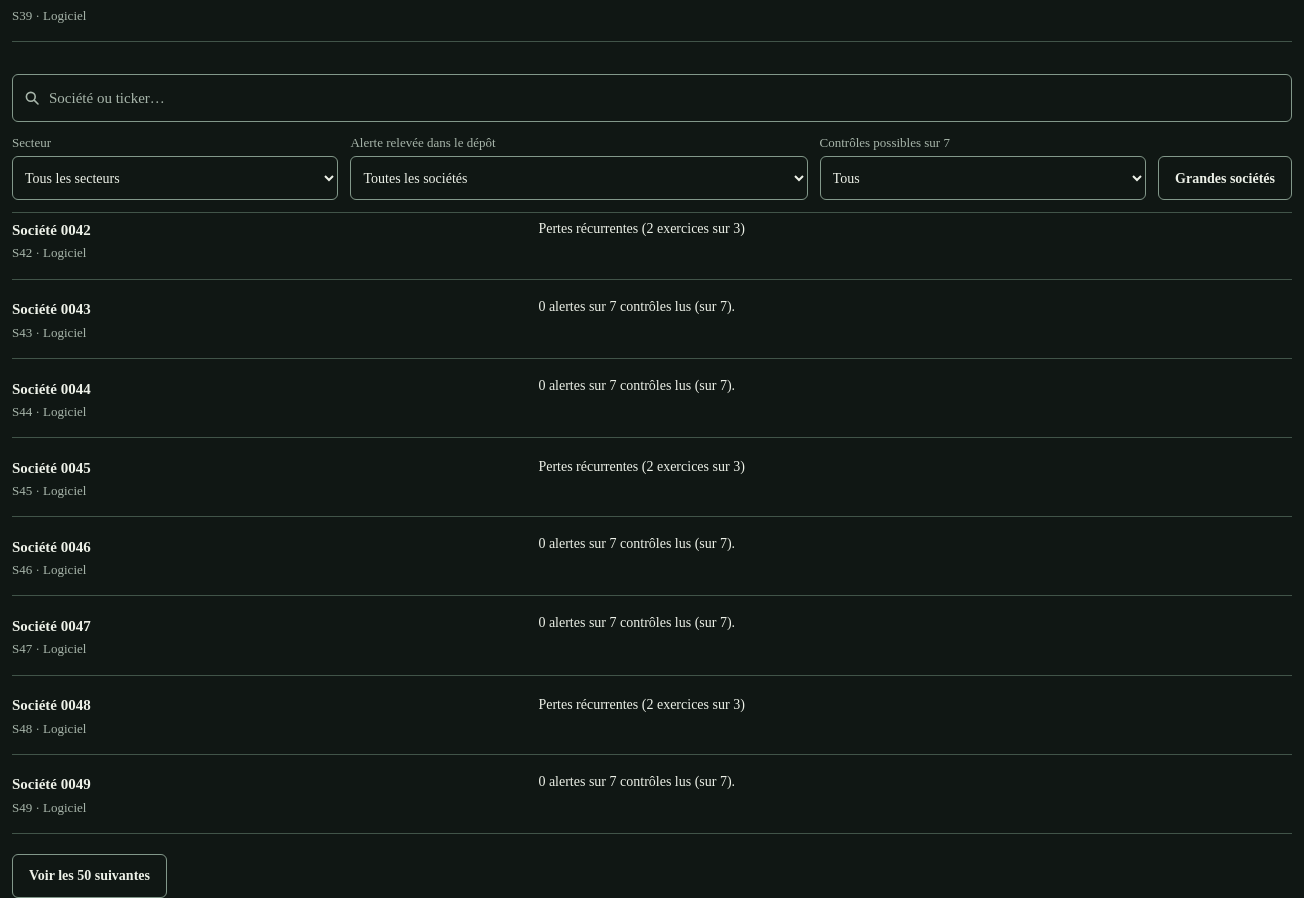
Test: InvestirListe, paging and focus › says « Voir les 20 suivantes » when fewer than 50 remain
(page scrolled)
Step 1. Click the button "Voir les 50 suivantes" → [90, 876], box [12,854,167,897]
(page scrolled)
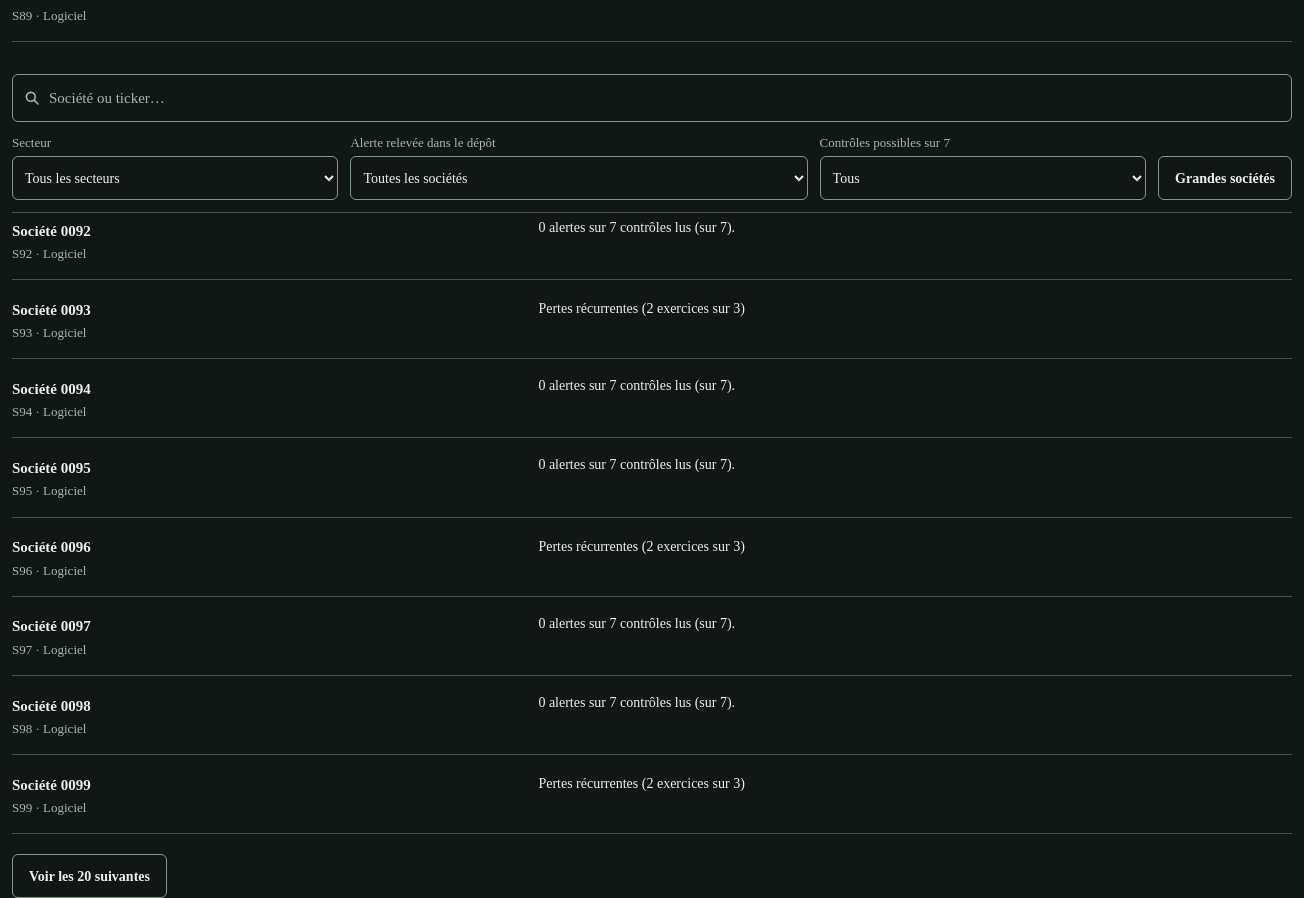
Now the button "Voir les 20 suivantes" is shown, box [12,854,167,897]
